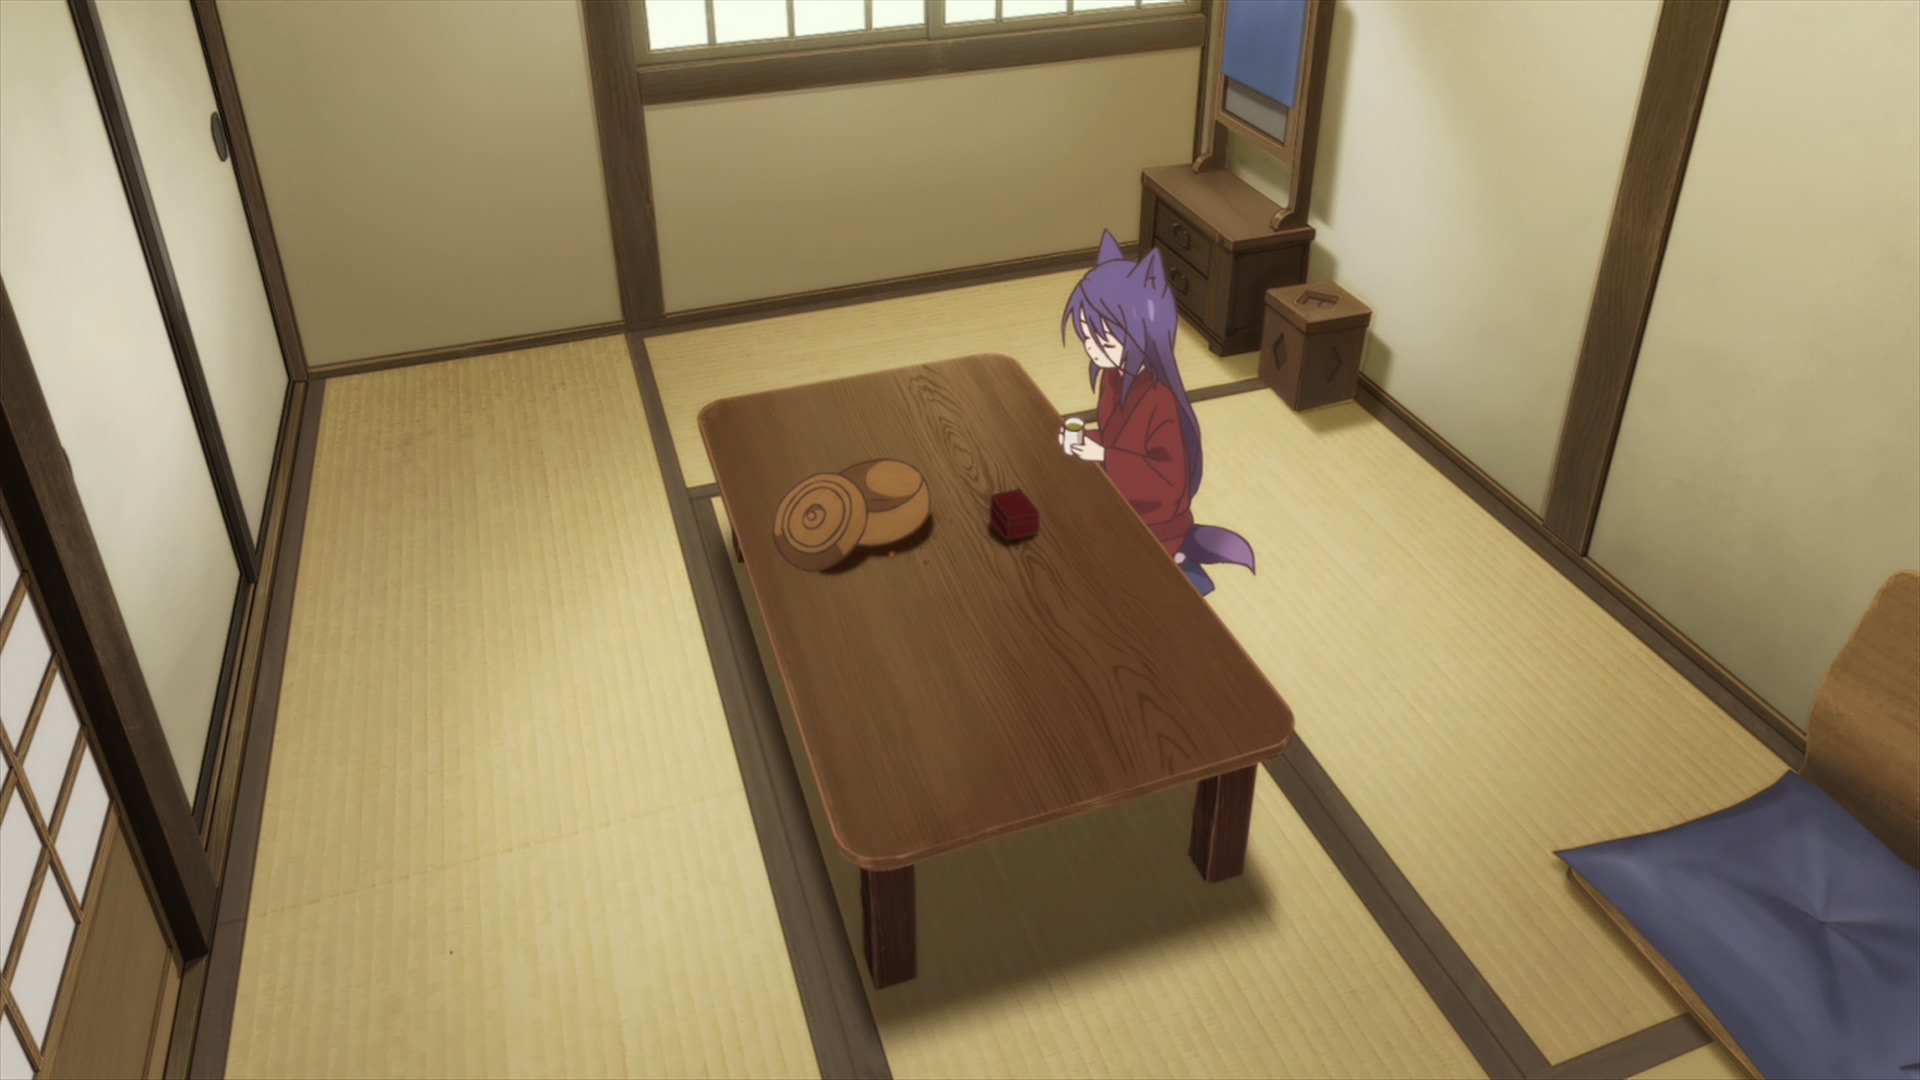皋: (1056, 228, 1257, 580)
